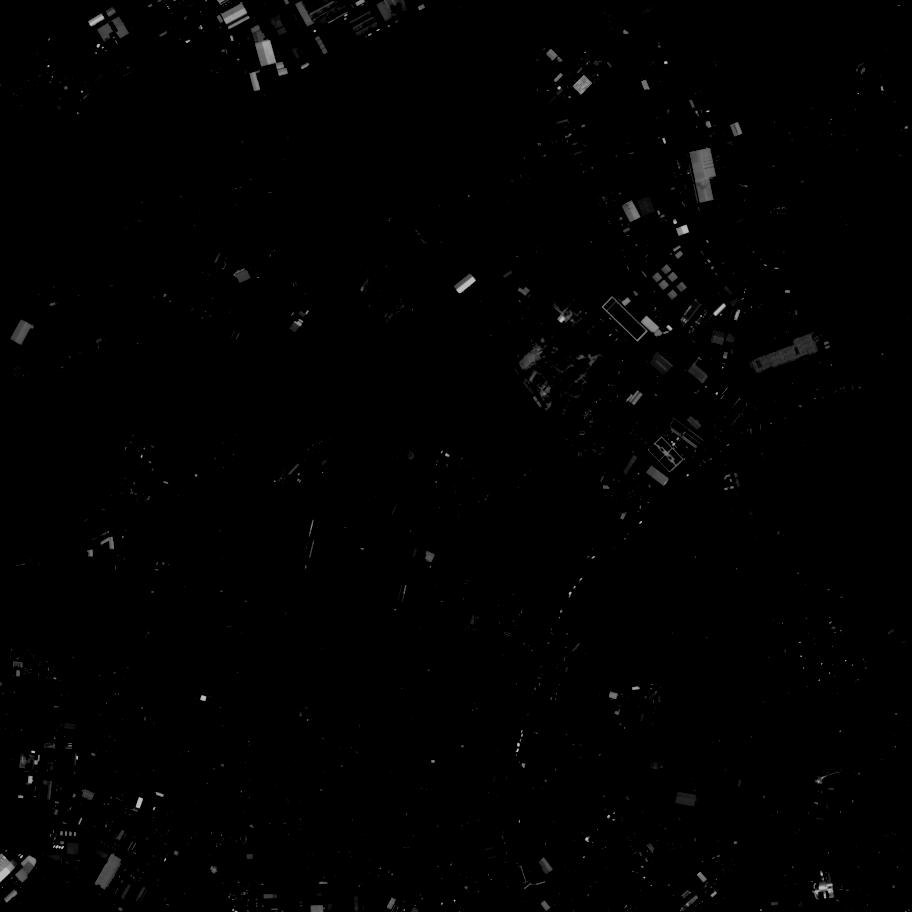storage-tank: (552, 414, 556, 419), (548, 411, 552, 416), (557, 416, 561, 419)
